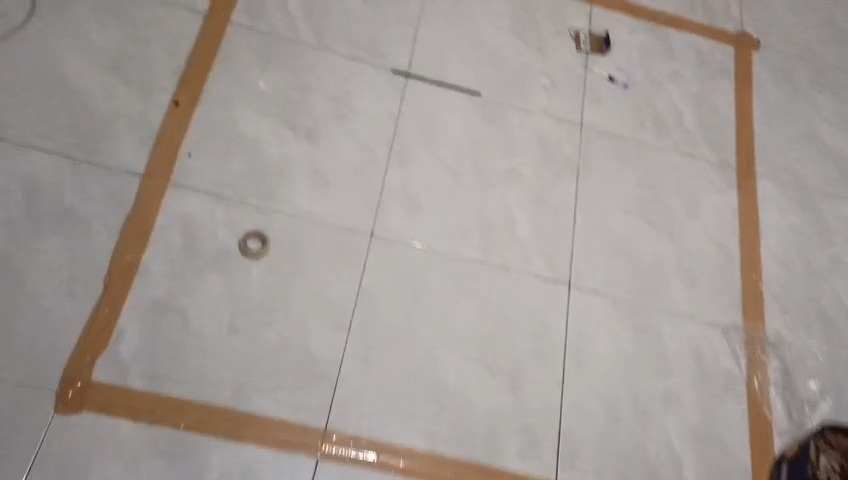floor marking: (54, 0, 532, 479), (590, 0, 764, 339), (743, 337, 775, 479)
